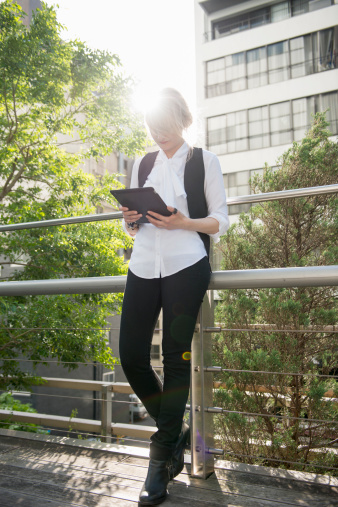em pe: (101, 85, 229, 494)
